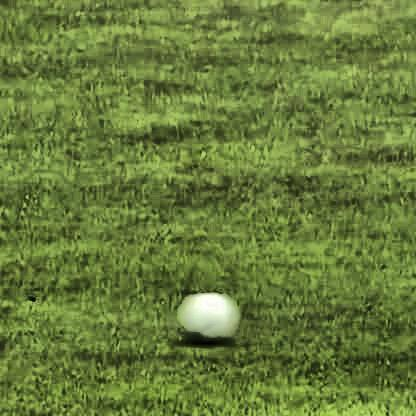golfball: (179, 295, 235, 343)
